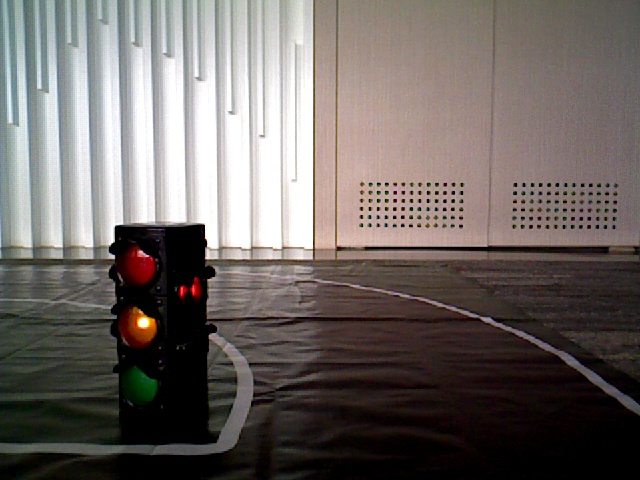yellow: (113, 229, 175, 411)
